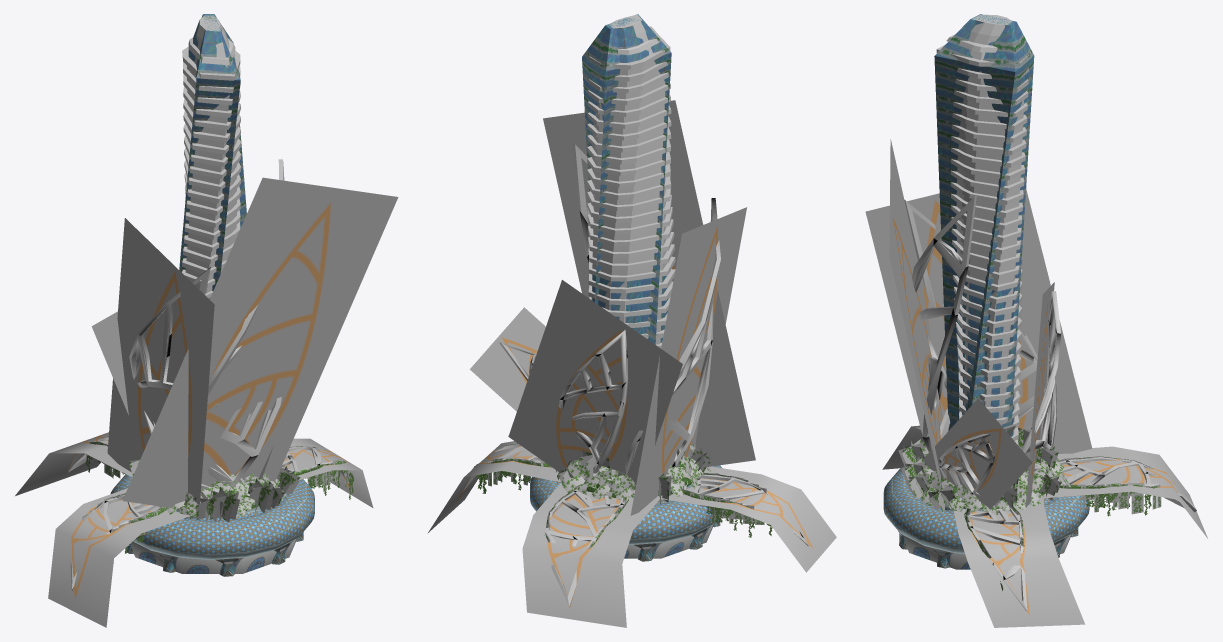
File: SM_GlassTower.fbx
3 renders of one model, left to right at view 1: azimuth 30°, elevation 25°; view 2: azimuth 150°, elevation 25°; view 3: azimuth 270°, elevation 25°, orthographic. The views are drawn at different scales.
Parts seen in each view (by area): view 1: Glasstower_Leafs, GlassTower_Tower (×2), GlassTower_Dome (×2), GlassTower_Leafs (×2), Bush, Ivy (×2), Fern, GlassTowe_Columns; view 2: Glasstower_Leafs, GlassTower_Tower (×3), GlassTower_Leafs (×2), GlassTower_Dome (×2), Fern, Ivy (×2), Bush; view 3: Glasstower_Leafs, GlassTower_Tower (×3), GlassTower_Leafs (×2), GlassTower_Dome (×2), Bush, Fern, Ivy (×2).
Boxes of the visible parts, x1,y1,x2,y2 form: Glasstower_Leafs: [15, 177, 398, 627]; GlassTower_Tower (×2): [179, 14, 246, 298]; GlassTower_Dome (×2): [110, 474, 314, 573]; GlassTower_Leafs (×2): [67, 159, 344, 590]; Bush: [129, 459, 300, 522]; Ivy (×2): [82, 441, 354, 562]; Fern: [164, 467, 286, 518]; GlassTowe_Columns: [125, 532, 303, 576]; Glasstower_Leafs: [427, 100, 836, 627]; GlassTower_Tower (×3): [582, 14, 675, 348]; GlassTower_Leafs (×2): [462, 143, 808, 606]; GlassTower_Dome (×2): [530, 465, 722, 558]; Fern: [556, 444, 710, 499]; Ivy (×2): [475, 443, 772, 548]; Bush: [558, 448, 711, 503]; Glasstower_Leafs: [865, 139, 1207, 627]; GlassTower_Tower (×3): [934, 14, 1034, 445]; GlassTower_Leafs (×2): [904, 195, 1196, 611]; GlassTower_Dome (×2): [883, 466, 1089, 569]; Bush: [898, 426, 1061, 511]; Fern: [916, 447, 1071, 514]; Ivy (×2): [964, 456, 1161, 590].
Size of the model in its own units: 90.69 by 135 by 79.7.
